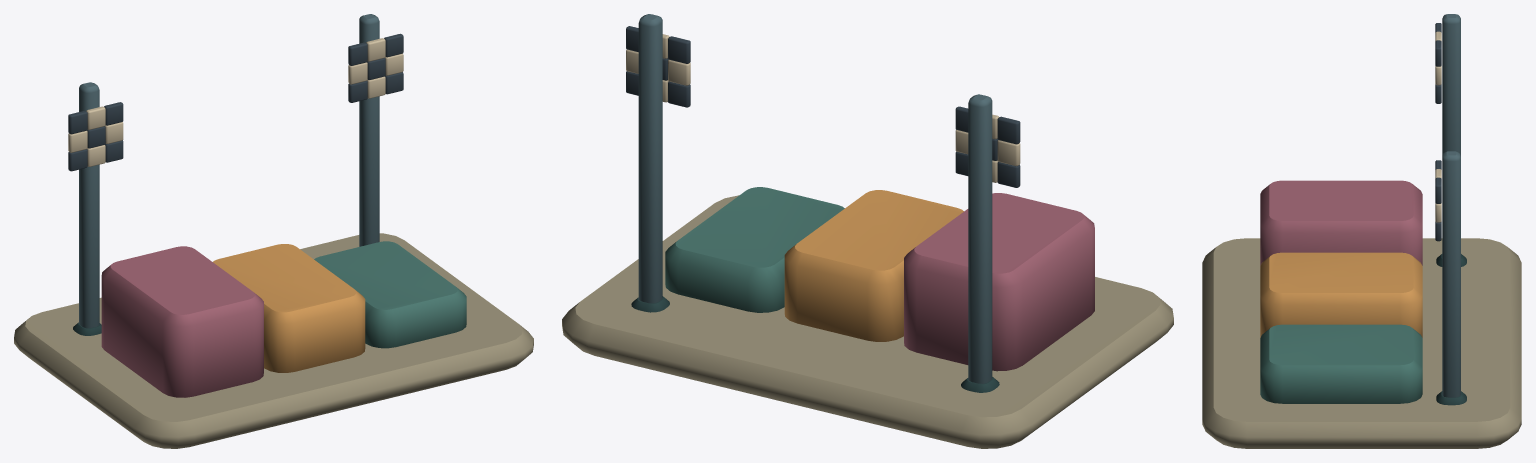
File: event_supercar_run.glb
3 views of the same model, side by side, from view 1: azimuth 30°, elevation 25°; view 2: azimuth 150°, elevation 25°; view 3: azimuth 270°, elevation 25° (orthographic). The views are drawn at different scales.
Parts seen in each view (by area): view 1: EventSupercarRun; view 2: EventSupercarRun; view 3: EventSupercarRun.
Boxes of the visible parts, box(x1,y1,x2,y2) form: EventSupercarRun: box(14, 14, 533, 448); EventSupercarRun: box(562, 14, 1173, 448); EventSupercarRun: box(1202, 14, 1521, 448).
Bounding box in the file's own units: 2.45 × 1.61 × 1.71.
